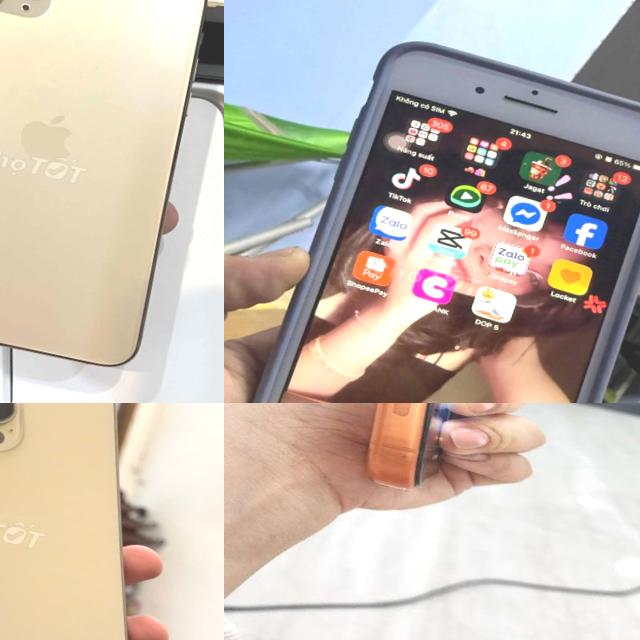gen_14: (0, 0, 224, 381), (0, 403, 201, 640)
gen_17: (308, 403, 552, 512)
gen_7_8: (224, 13, 640, 403)
